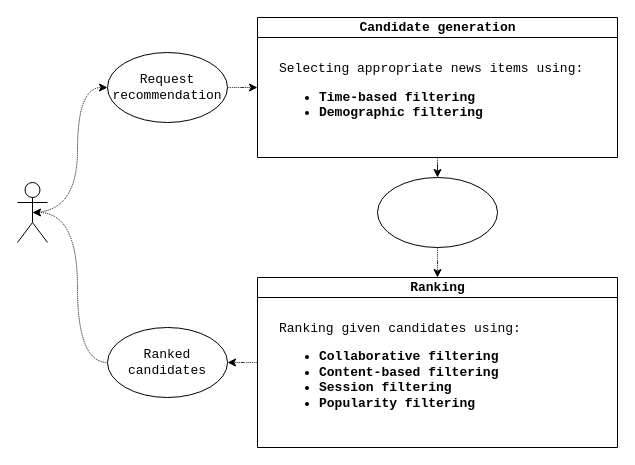
Some shapes in this 635 by 465 pixel diagram are drawn without their labels. The centre of each missing label's shape, as x and y in pixels:
"Candidates" belongs at (x=437, y=212).
"User" belongs at (x=32, y=212).
